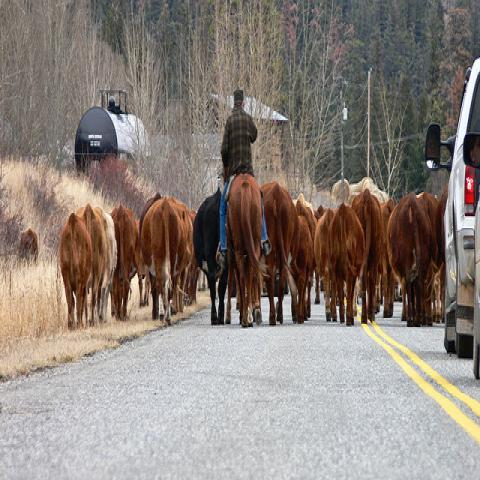car: (425, 57, 479, 360), (462, 134, 479, 386)
